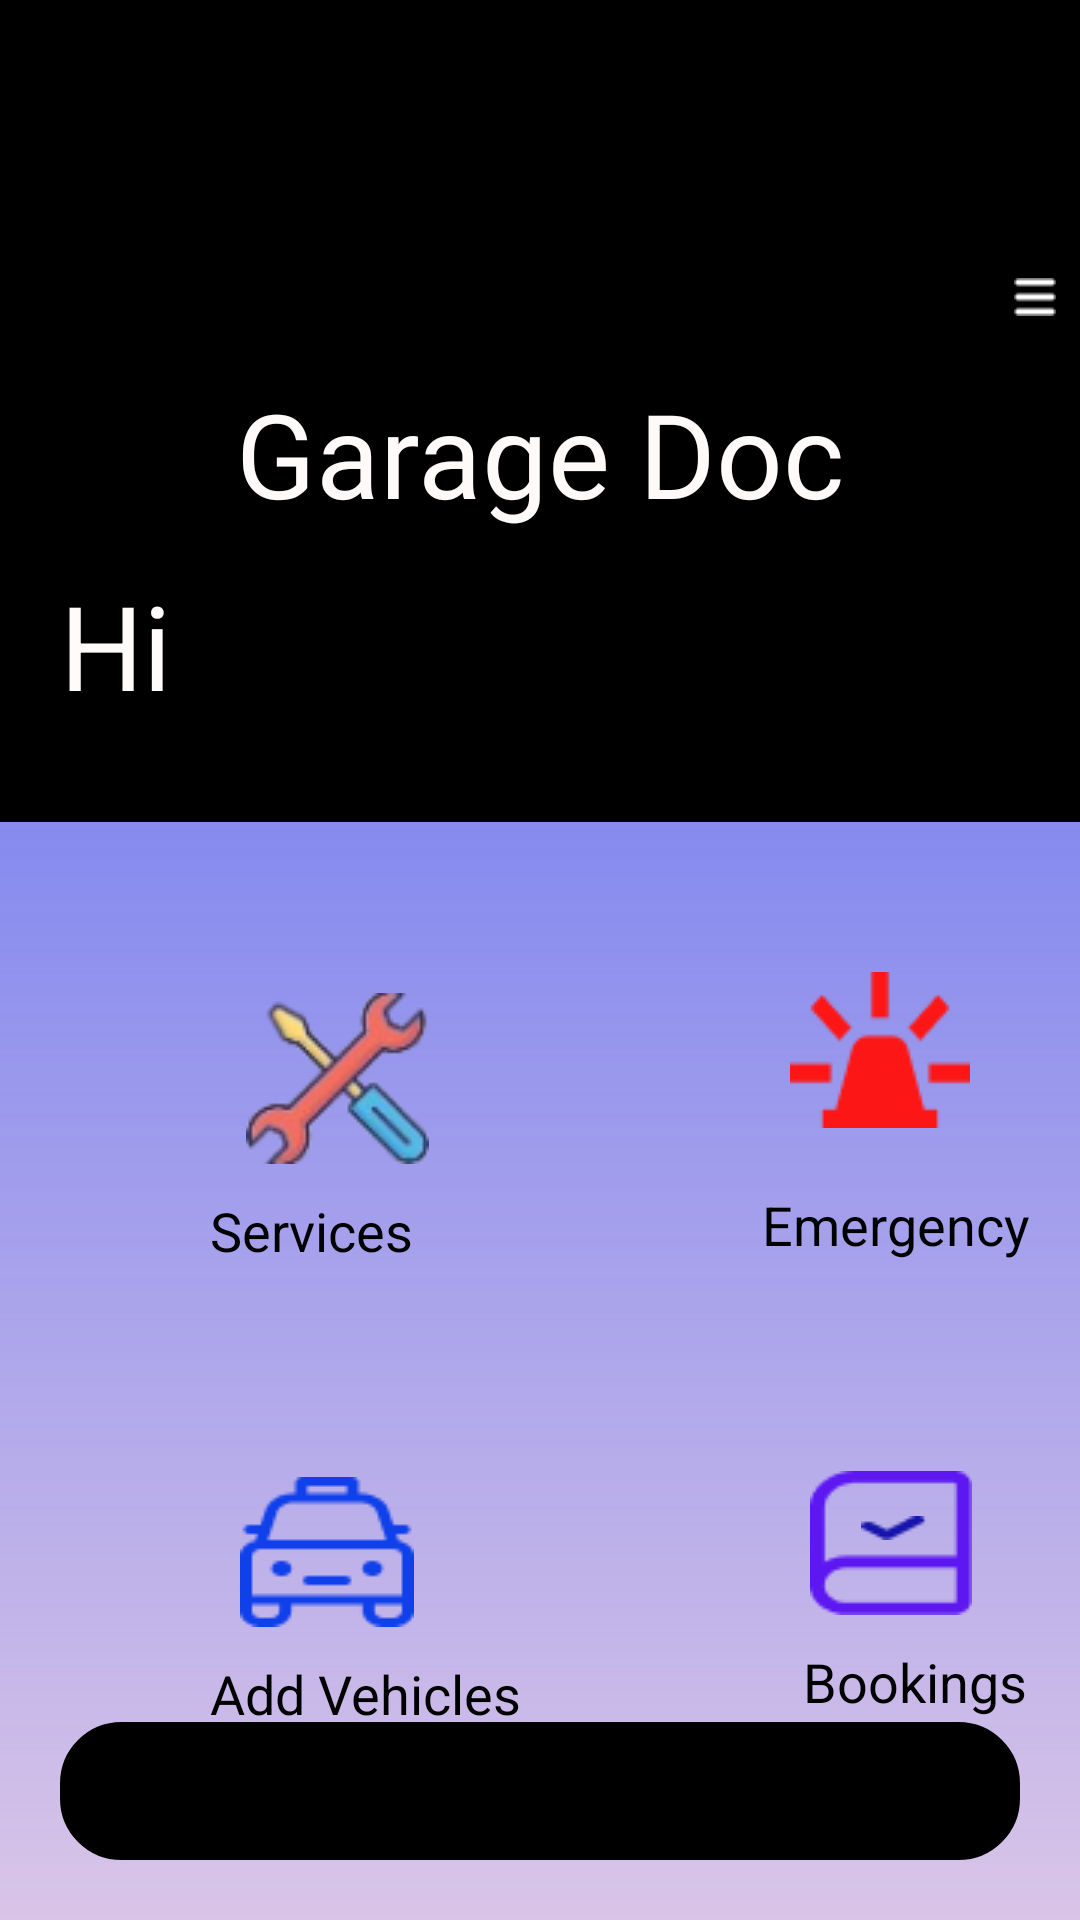

Locate icon controls on the screen. Image size 1080×1920, boxes as [x1,y1,x2,y2].
repair: [246,993,429,1164]
